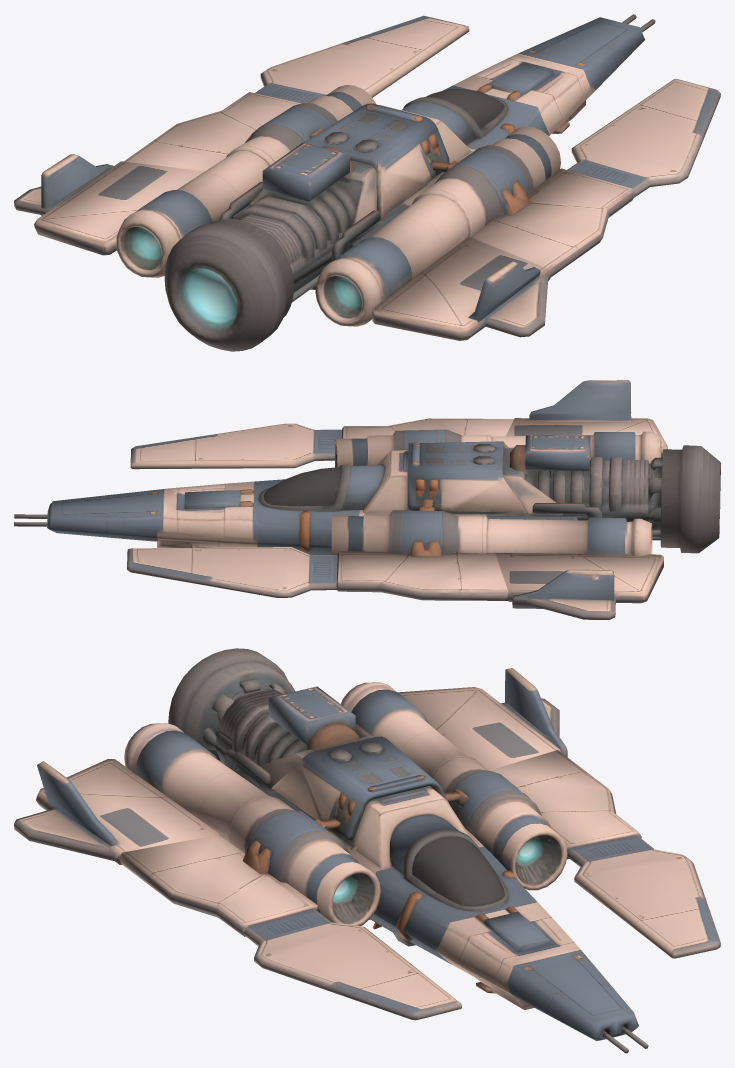
The model's file is first_upgrade_white.glb.
3 renders of one model, top to bottom at view 1: azimuth 30°, elevation 25°; view 2: azimuth 150°, elevation 25°; view 3: azimuth 270°, elevation 25°, orthographic. The views are drawn at different scales.
Parts seen in each view (by area): view 1: tripo_node_f7ad6bdf-d46f-4e7a-8453-80c98704d12a; view 2: tripo_node_f7ad6bdf-d46f-4e7a-8453-80c98704d12a; view 3: tripo_node_f7ad6bdf-d46f-4e7a-8453-80c98704d12a.
Boxes of the visible parts, left/top/right/bottom form: tripo_node_f7ad6bdf-d46f-4e7a-8453-80c98704d12a: left=14, top=14, right=720, bottom=351; tripo_node_f7ad6bdf-d46f-4e7a-8453-80c98704d12a: left=14, top=380, right=720, bottom=619; tripo_node_f7ad6bdf-d46f-4e7a-8453-80c98704d12a: left=14, top=648, right=720, bottom=1053.
Size of the model in its own units: 0.9356 by 0.1685 by 0.8165.
Materials: 1 (1 with a texture image).
